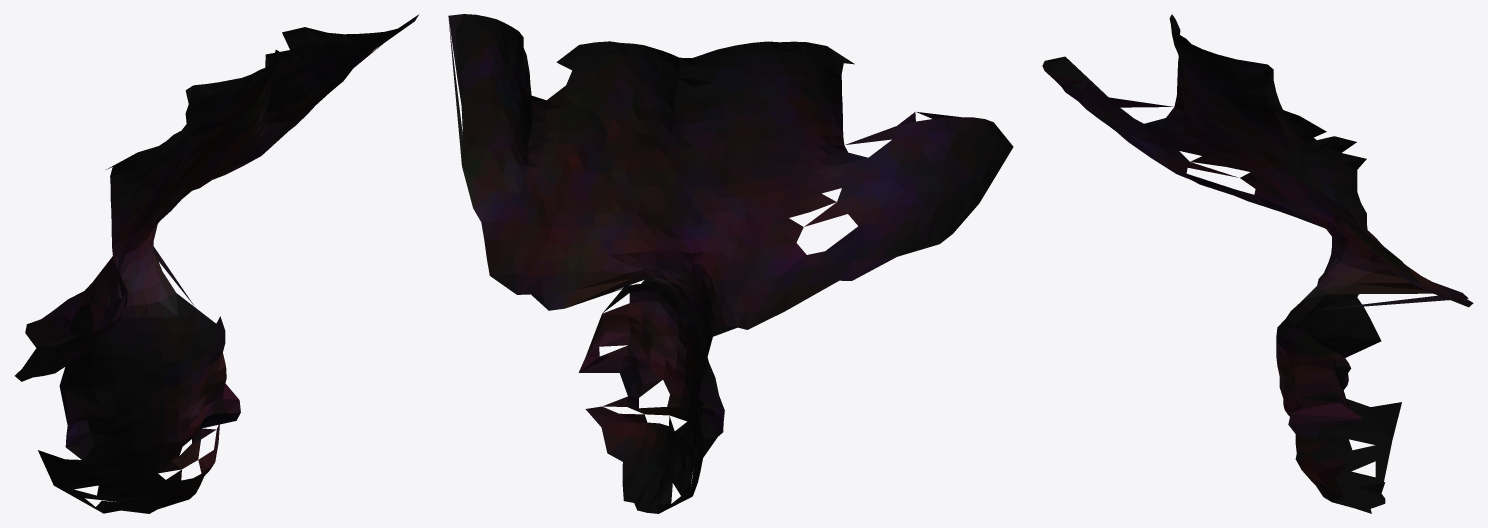
3 views of the same model, side by side, from view 1: azimuth 30°, elevation 25°; view 2: azimuth 150°, elevation 25°; view 3: azimuth 270°, elevation 25° (orthographic). The views are drawn at different scales.
Parts seen in each view (by area): view 1: ofMesh; view 2: ofMesh; view 3: ofMesh.
Boxes of the visible parts, bbox=[...] form: ofMesh: bbox=[14, 14, 418, 513]; ofMesh: bbox=[448, 14, 1013, 513]; ofMesh: bbox=[1042, 14, 1473, 513].
Size of the model in its own units: 460 by 400 by 356.
Materials: 1 (1 with a texture image).
